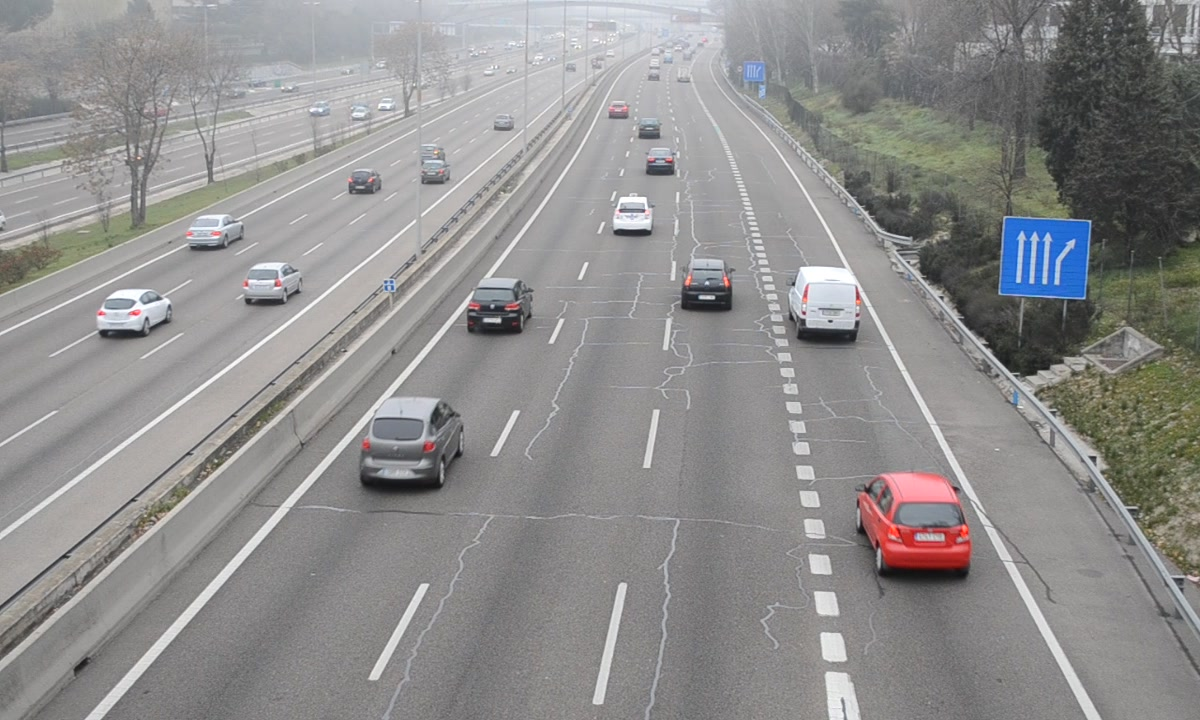car: (859, 473, 974, 570), (360, 399, 464, 486), (466, 278, 534, 333), (680, 257, 732, 311), (610, 192, 656, 235), (643, 146, 676, 176)
van: (793, 266, 862, 337)
